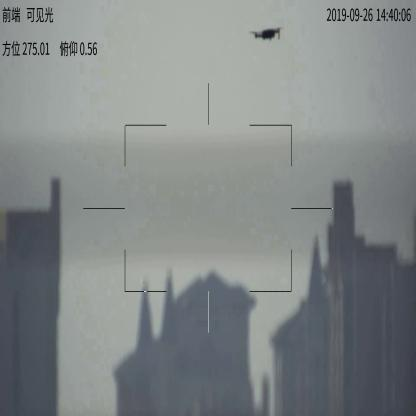uav: (250, 24, 285, 43)
